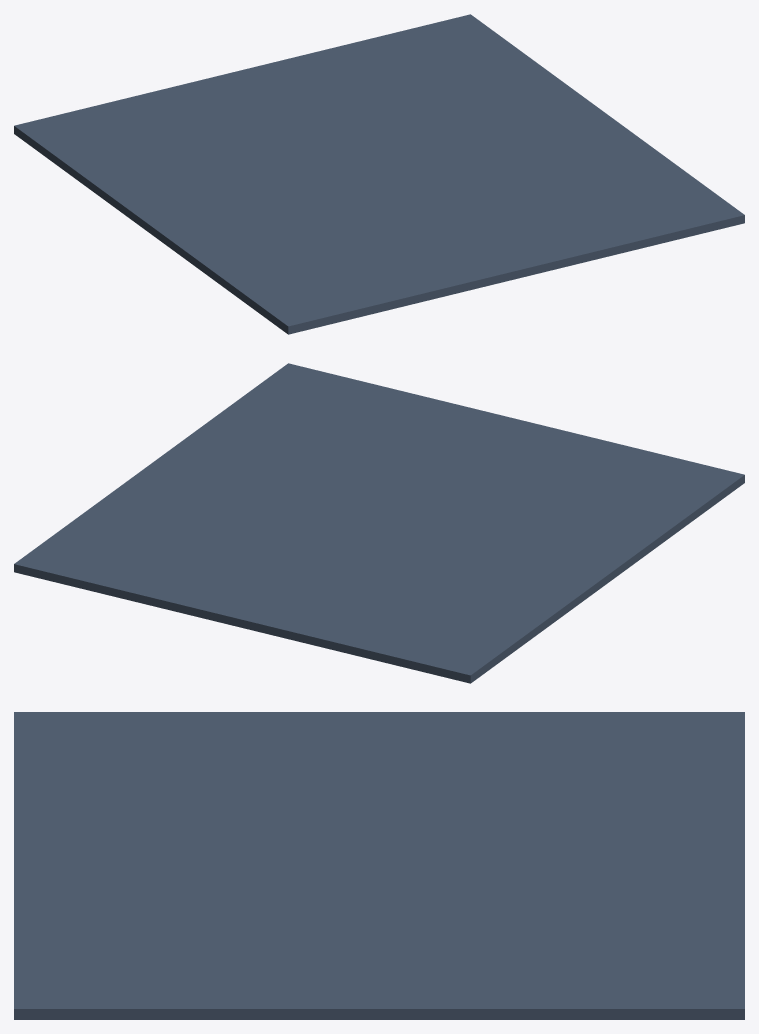
The model's file is floor_007_l_old_core_staryy_rezervnyy_cu_floor.obj.
The picture shows the model from 3 angles, top to bottom: view 1: azimuth 30°, elevation 25°; view 2: azimuth 150°, elevation 25°; view 3: azimuth 270°, elevation 25°; orthographic projection. The views are drawn at different scales.
Parts seen in each view (by area): view 1: Floor_007_l_old_core_staryy_rezervnyy_cu_floor; view 2: Floor_007_l_old_core_staryy_rezervnyy_cu_floor; view 3: Floor_007_l_old_core_staryy_rezervnyy_cu_floor.
Part boxes in pixels (x1,y1,x2,y2): Floor_007_l_old_core_staryy_rezervnyy_cu_floor: [14, 14, 744, 334]; Floor_007_l_old_core_staryy_rezervnyy_cu_floor: [14, 363, 744, 683]; Floor_007_l_old_core_staryy_rezervnyy_cu_floor: [14, 712, 744, 1019].
Size of the model in its own units: 11.67 by 0.2 by 12.14.
